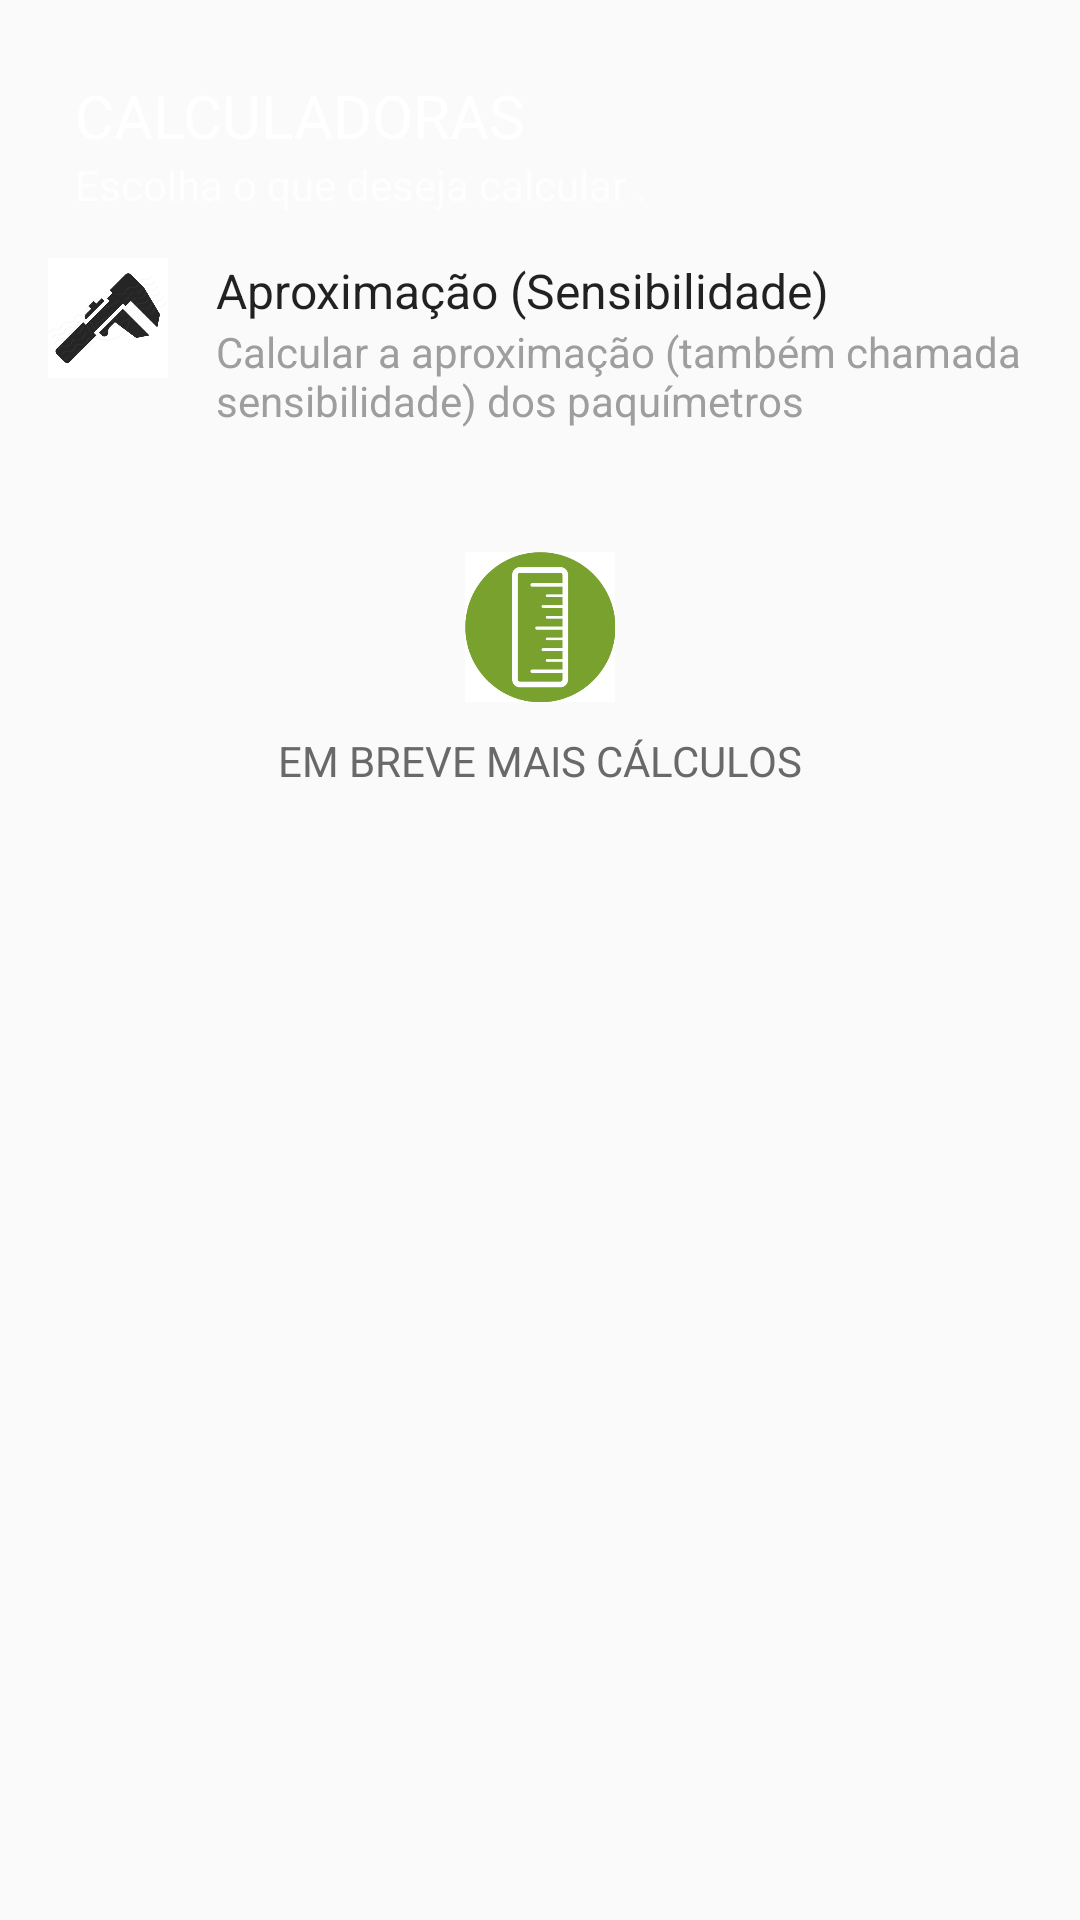

Icons on this 1080 x 1920 Android screen, each with the point to tap as point (x, y):
caliper: point (107, 318)
